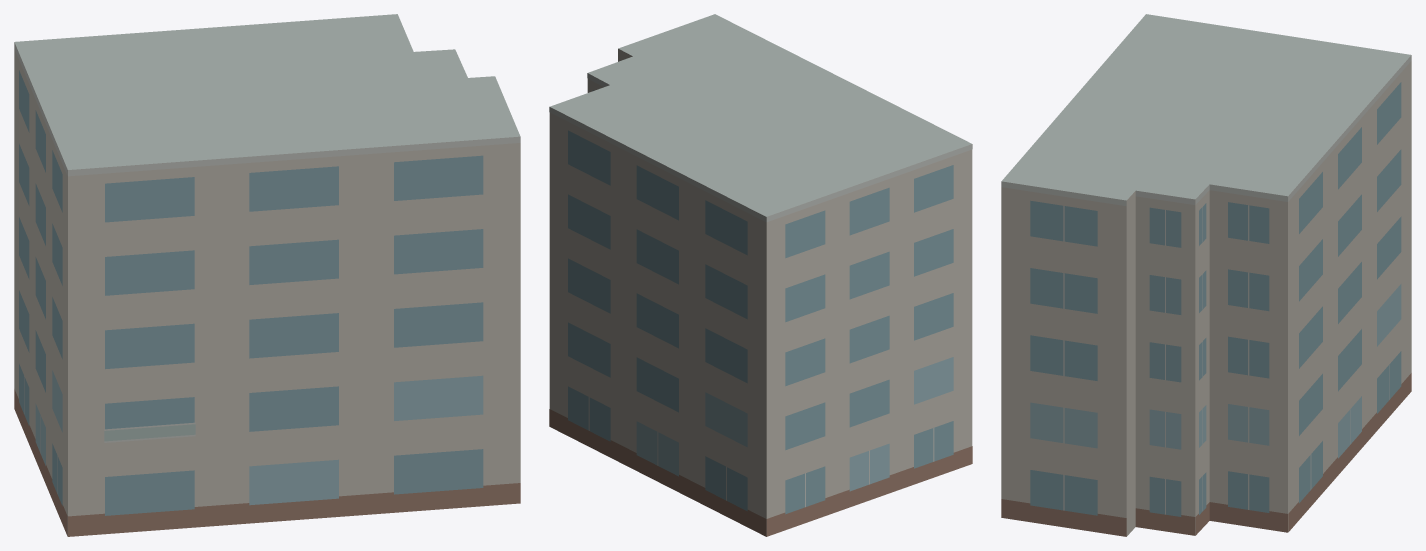
Rendered from survey-upis-32720985.glb.
3 renders of one model, left to right at view 1: azimuth 30°, elevation 25°; view 2: azimuth 150°, elevation 25°; view 3: azimuth 270°, elevation 25°, orthographic. The views are drawn at different scales.
Parts seen in each view (by area): view 1: survey-upis-32720985.tmp; view 2: survey-upis-32720985.tmp; view 3: survey-upis-32720985.tmp.
Boxes of the visible parts, left/top/right/bottom form: survey-upis-32720985.tmp: left=14, top=14, right=520, bottom=536; survey-upis-32720985.tmp: left=549, top=14, right=972, bottom=536; survey-upis-32720985.tmp: left=1001, top=14, right=1411, bottom=536.
Size of the model in its own units: 17.01 by 14.3 by 15.81.
